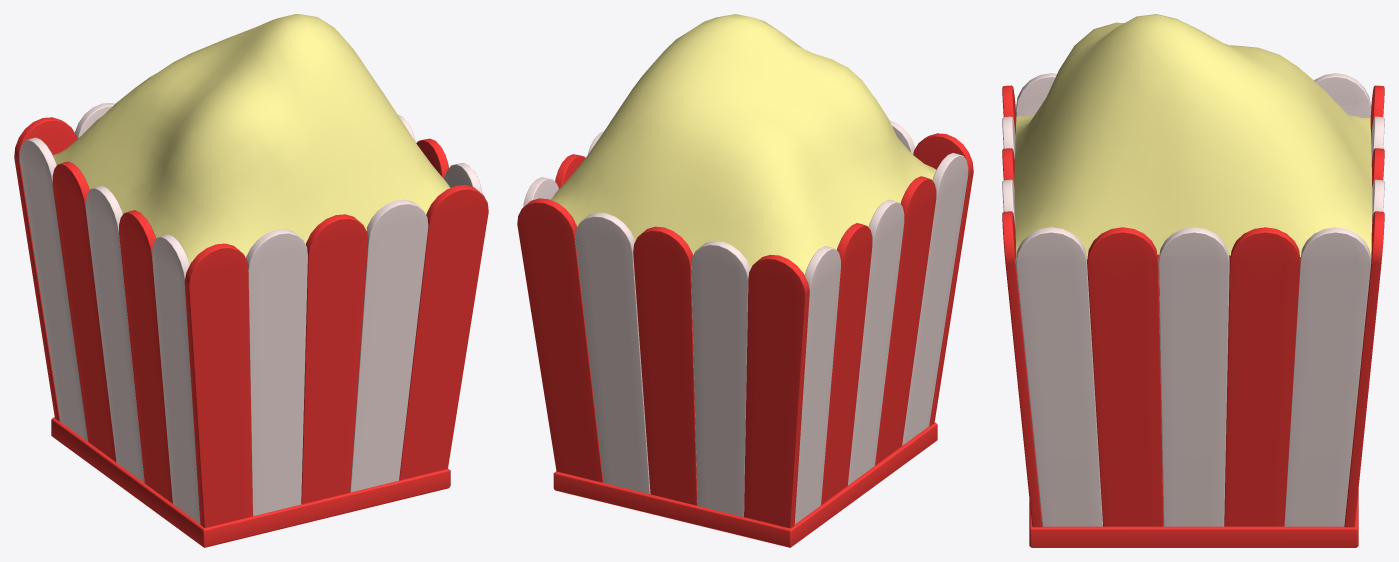
File: Public_4_Popcorn_1.glb
3 views of the same model, side by side, from view 1: azimuth 30°, elevation 25°; view 2: azimuth 150°, elevation 25°; view 3: azimuth 270°, elevation 25° (orthographic). The views are drawn at different scales.
Parts seen in each view (by area): view 1: Public_4_Popcorn_1; view 2: Public_4_Popcorn_1; view 3: Public_4_Popcorn_1.
Boxes of the visible parts, left/top/right/bottom form: Public_4_Popcorn_1: left=14, top=14, right=488, bottom=547; Public_4_Popcorn_1: left=517, top=14, right=973, bottom=547; Public_4_Popcorn_1: left=1002, top=14, right=1384, bottom=547.
Bounding box in the file's own units: 2.35 × 3.3 × 2.39.
1 material, 1 textured.
